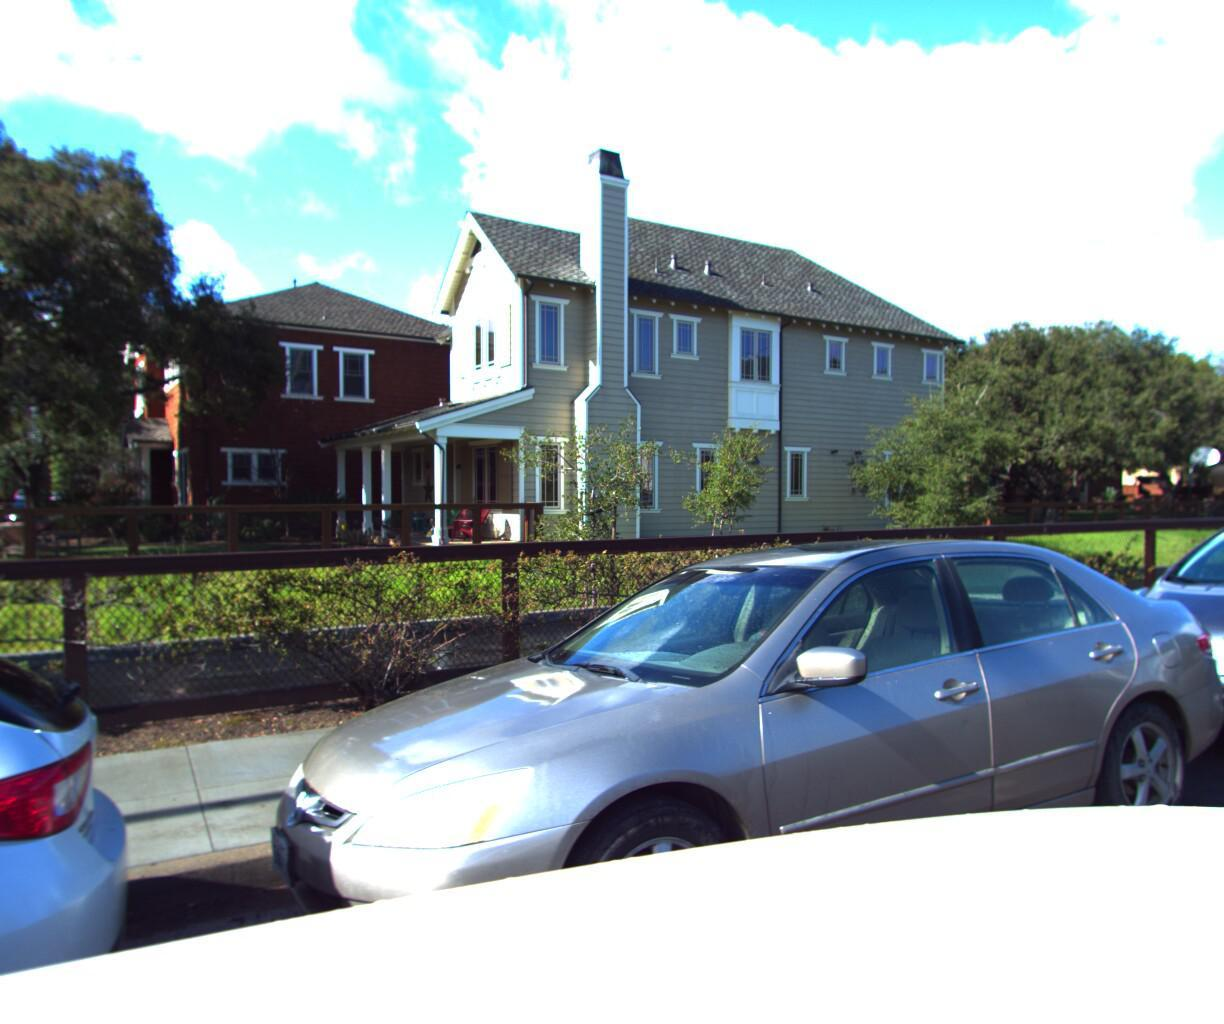car: (238, 529, 1224, 1024), (1049, 501, 1224, 795)
